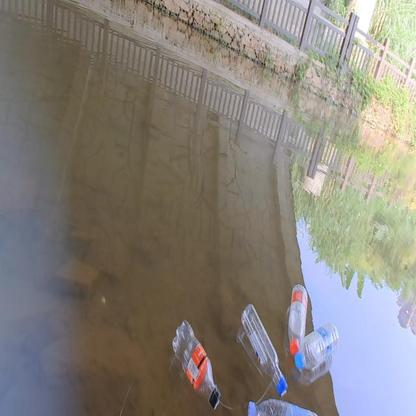plastic bottle: (171, 320, 221, 410), (241, 304, 288, 397), (295, 322, 340, 368), (247, 400, 317, 416), (289, 284, 304, 353)
